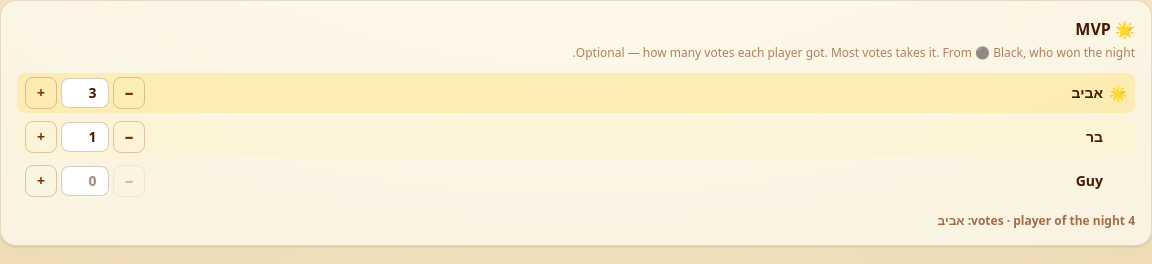
MvpPicker › says the standing pick keeps it when a correction levels the sheet
Click the button "+" in the row of "בר" at (41, 137), box [25,121,57,153]
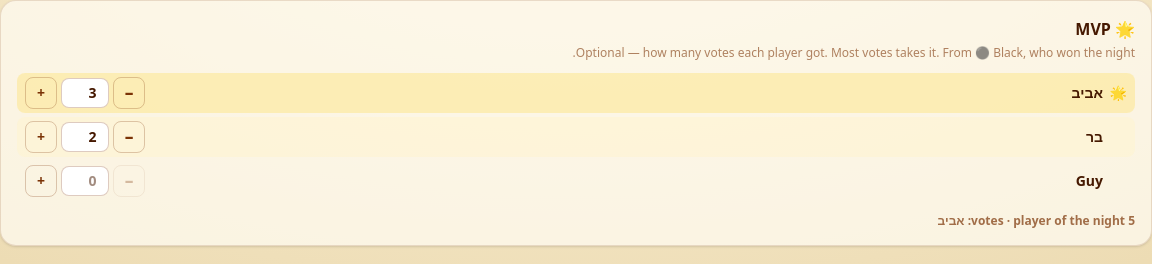
Click the button "+" in the row of "בר" at (41, 137), box [25,121,57,153]
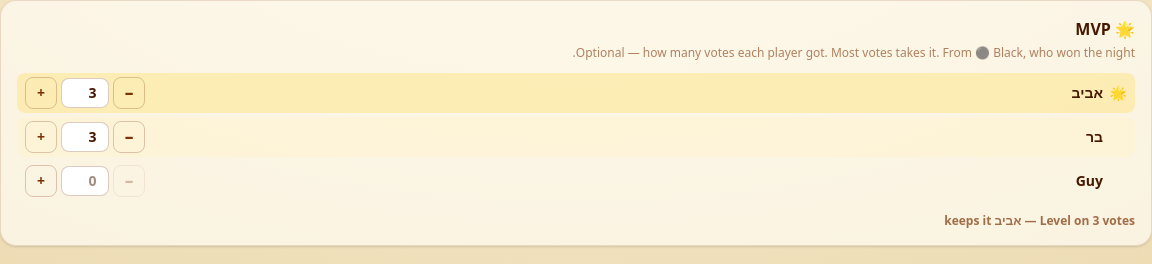
Expected: the text "Level on 3 votes — אביב keeps it" is shown, [944,212,1135,229]
